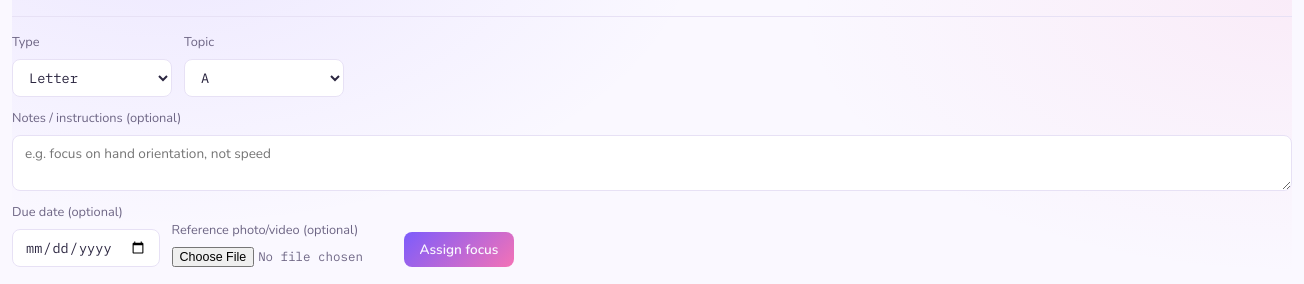
switching topic type re-populates the topic options for that type
Select "Motion sign" in the dropdown labelled "Type". click: (92, 78)
box: x1=12 y1=59 x2=172 y2=97
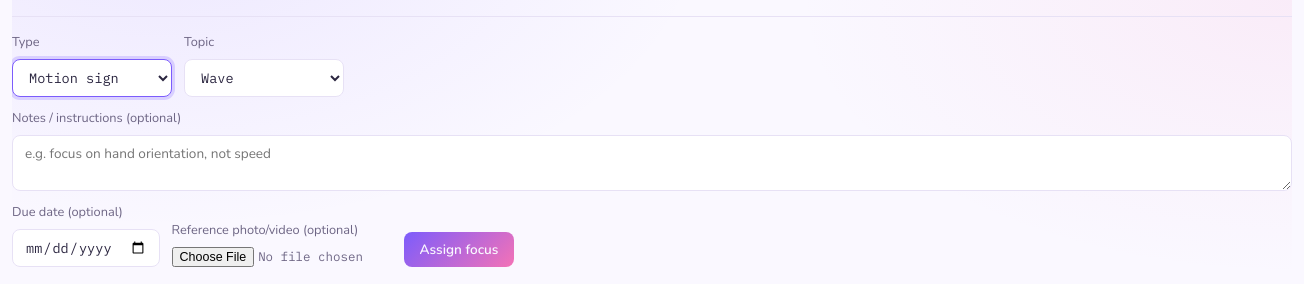
Now the dropdown labelled "Topic" shows "Wave", box x1=184 y1=59 x2=344 y2=97
